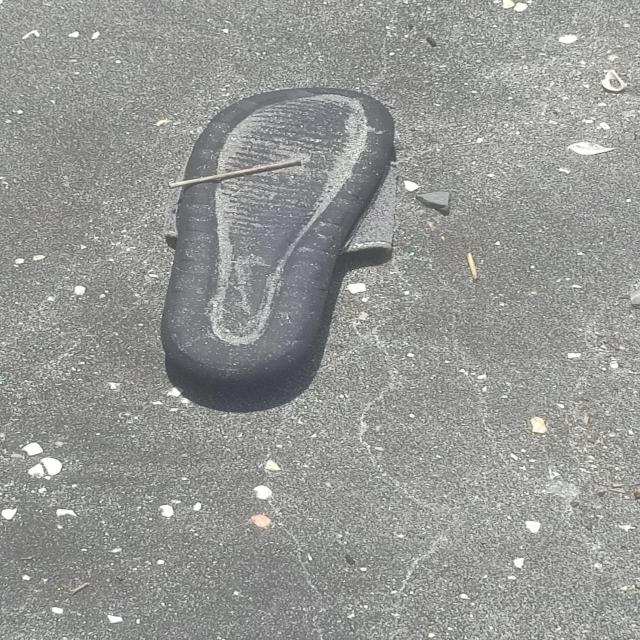rubber_waste: (161, 89, 398, 383)
